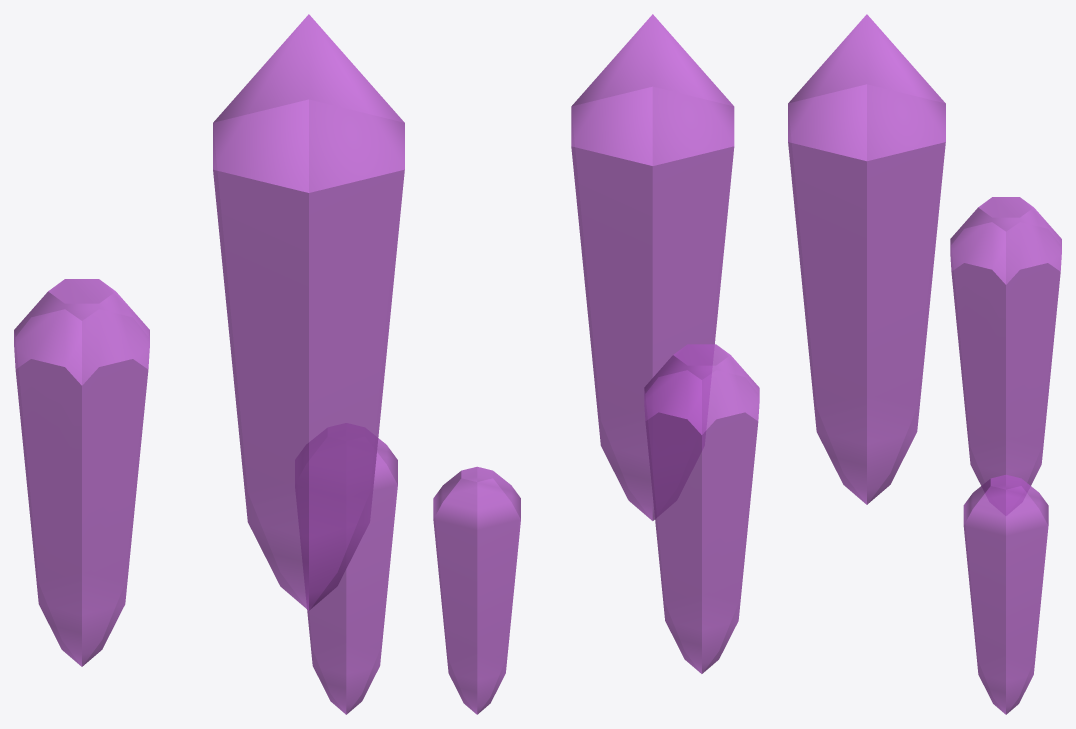
The model's file is Gem.fbx.
3 renders of one model, left to right at view 1: azimuth 30°, elevation 25°; view 2: azimuth 150°, elevation 25°; view 3: azimuth 270°, elevation 25°, orthographic. The views are drawn at different scales.
Parts seen in each view (by area): view 1: pCylinder4; view 2: pCylinder4; view 3: pCylinder4.
Boxes of the visible parts, bbox=[...] form: pCylinder4: bbox=[14, 14, 404, 714]; pCylinder4: bbox=[433, 14, 759, 714]; pCylinder4: bbox=[788, 14, 1061, 714].
Bounding box in the file's own units: 79.7 × 158 × 60.12.
